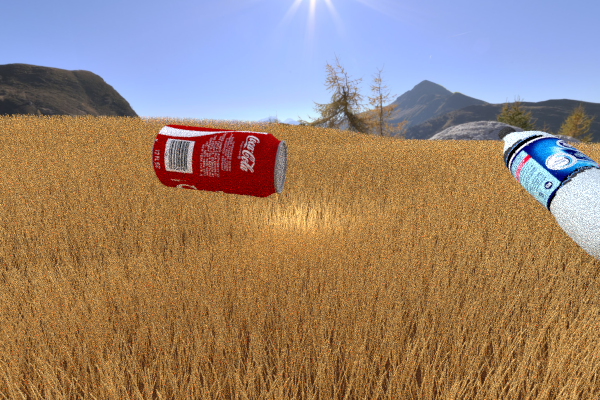bottle: (498, 126, 600, 274)
can: (151, 124, 287, 197)
